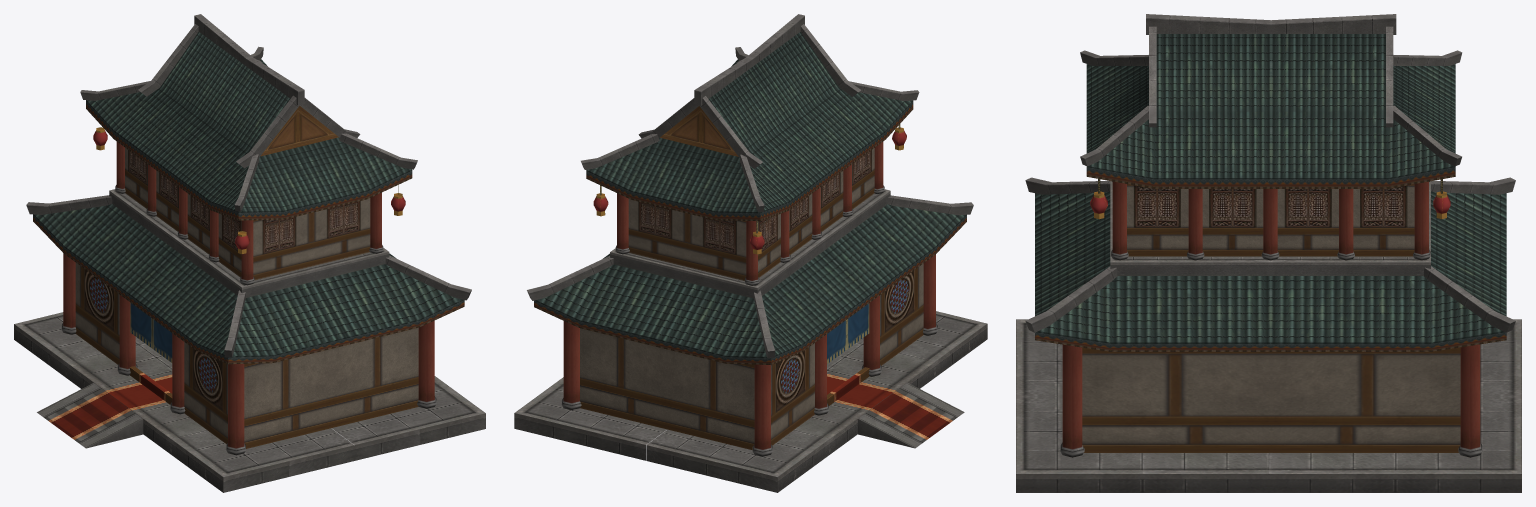
The model's file is Hourse04.FBX.
3 views of the same model, side by side, from view 1: azimuth 30°, elevation 25°; view 2: azimuth 150°, elevation 25°; view 3: azimuth 270°, elevation 25° (orthographic). The views are drawn at different scales.
Visible parts, largest first — view 1: Object03; view 2: Object03; view 3: Object03.
Part boxes in pixels (x1,y1,x2,y2): Object03: (14, 14, 485, 492); Object03: (514, 14, 987, 492); Object03: (1016, 14, 1521, 492).
Size of the model in its own units: 7.97 by 7.88 by 9.03.
